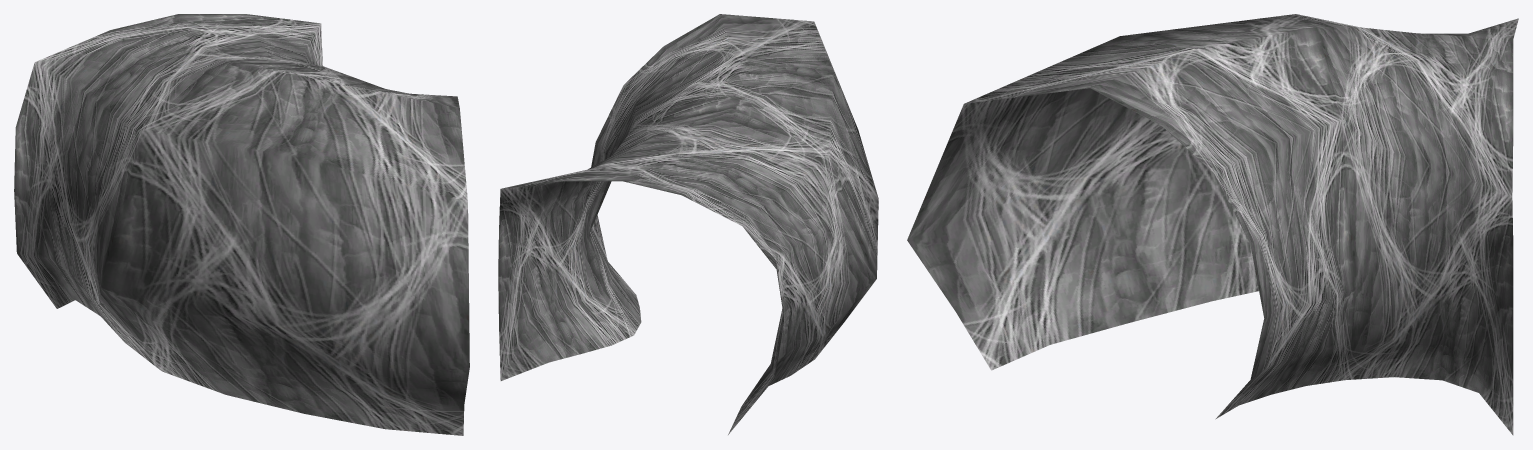
The model's file is SWORDLIGHT20_PS-AREA01_12.fbx.
3 renders of one model, left to right at view 1: azimuth 30°, elevation 25°; view 2: azimuth 150°, elevation 25°; view 3: azimuth 270°, elevation 25°, orthographic. The views are drawn at different scales.
Parts seen in each view (by area): view 1: SWORDLIGHT20_PS-AREA01_12; view 2: SWORDLIGHT20_PS-AREA01_12; view 3: SWORDLIGHT20_PS-AREA01_12.
Part boxes in pixels (x1,y1,x2,y2): SWORDLIGHT20_PS-AREA01_12: (14,14,469,435); SWORDLIGHT20_PS-AREA01_12: (498,14,878,434); SWORDLIGHT20_PS-AREA01_12: (907,14,1518,435).
Bounding box in the file's own units: 68099 × 56282 × 97129.
1 material, 1 textured.
